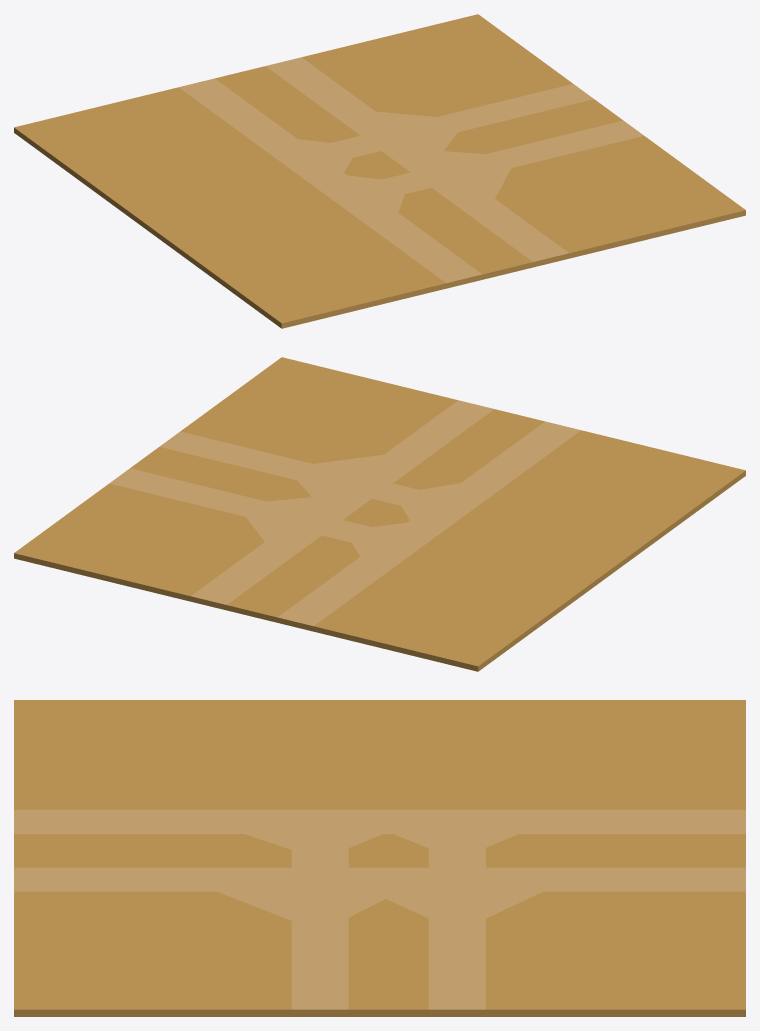
Rendered from road6.fbx.
3 views of the same model, one above another, from view 1: azimuth 30°, elevation 25°; view 2: azimuth 150°, elevation 25°; view 3: azimuth 270°, elevation 25° (orthographic). The views are drawn at different scales.
Parts seen in each view (by area): view 1: Cube_32; view 2: Cube_32; view 3: Cube_32.
Part boxes in pixels (x1,y1,x2,y2): Cube_32: [14, 14, 745, 328]; Cube_32: [14, 357, 745, 671]; Cube_32: [14, 700, 745, 1016].
Size of the model in its own units: 700 by 7.81 by 699.
